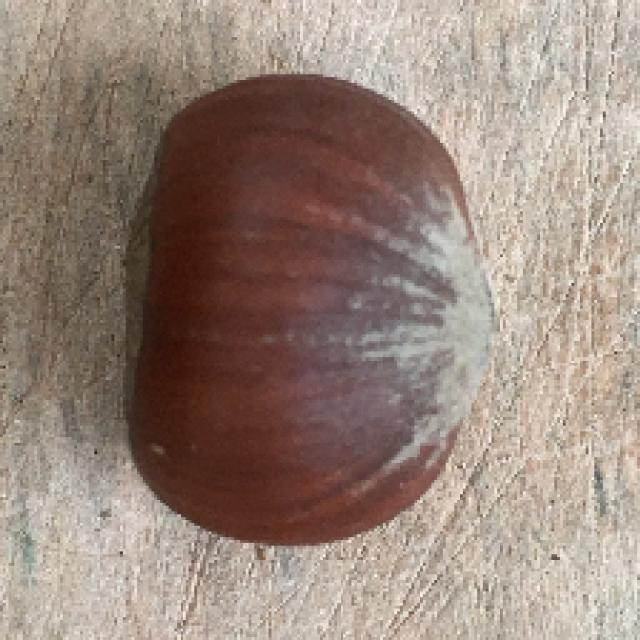qualityHazelnut: (112, 75, 502, 550)
